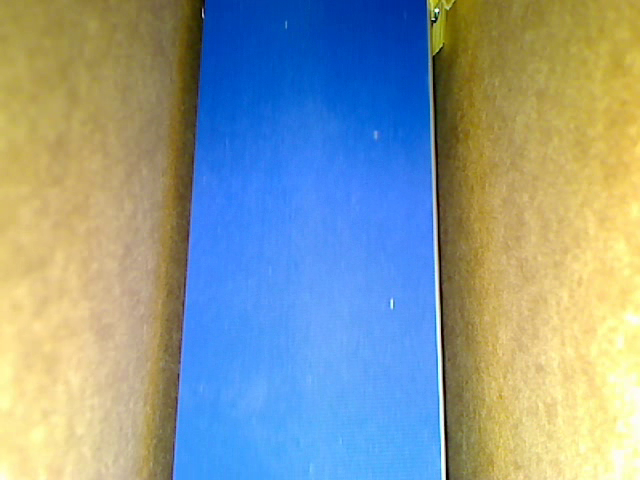penne: (428, 1, 447, 55), (440, 1, 458, 8)
